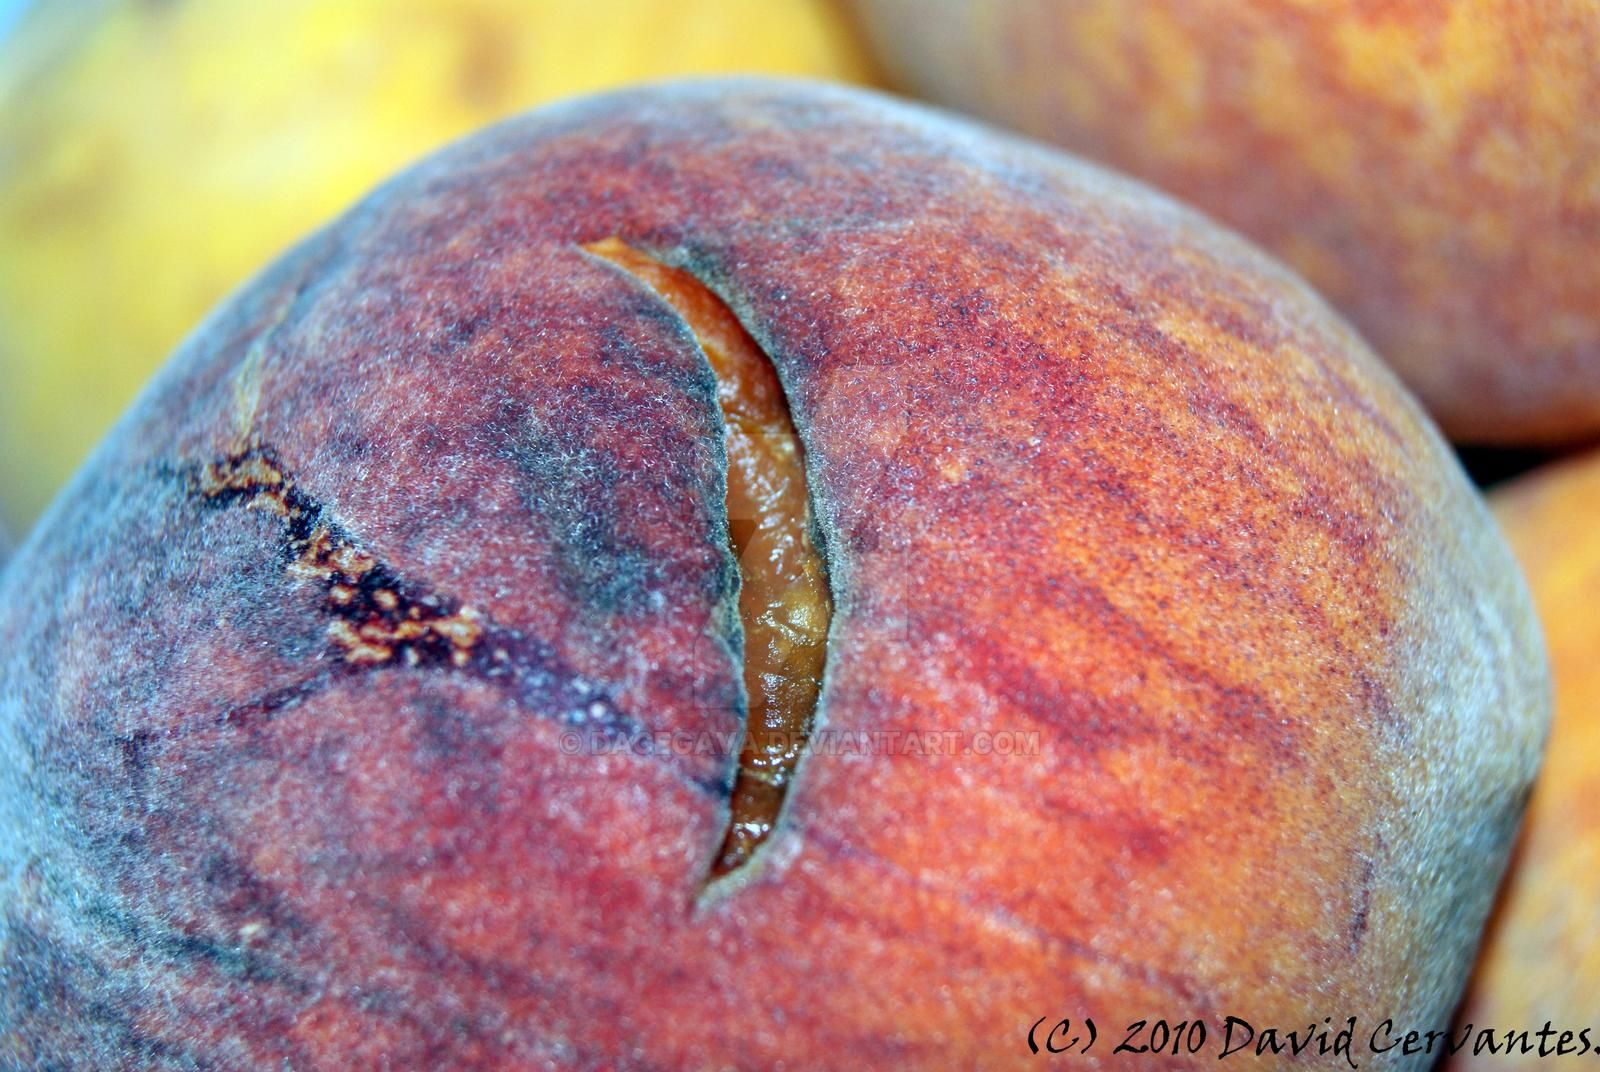damaged_peach: (10, 86, 1523, 1072)
